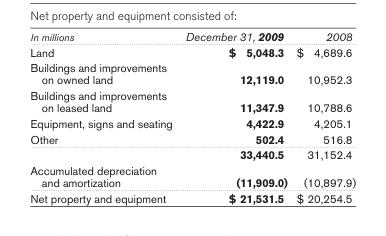table: (29, 29, 355, 204)
table column: (29, 29, 178, 204), (178, 29, 291, 204), (291, 29, 355, 204)
table column header: (29, 29, 355, 43)
table row: (29, 59, 355, 87), (29, 162, 355, 190), (29, 87, 355, 114), (29, 43, 355, 59), (29, 114, 355, 130), (29, 130, 355, 146), (29, 146, 355, 162), (29, 29, 355, 43), (29, 190, 355, 204)
